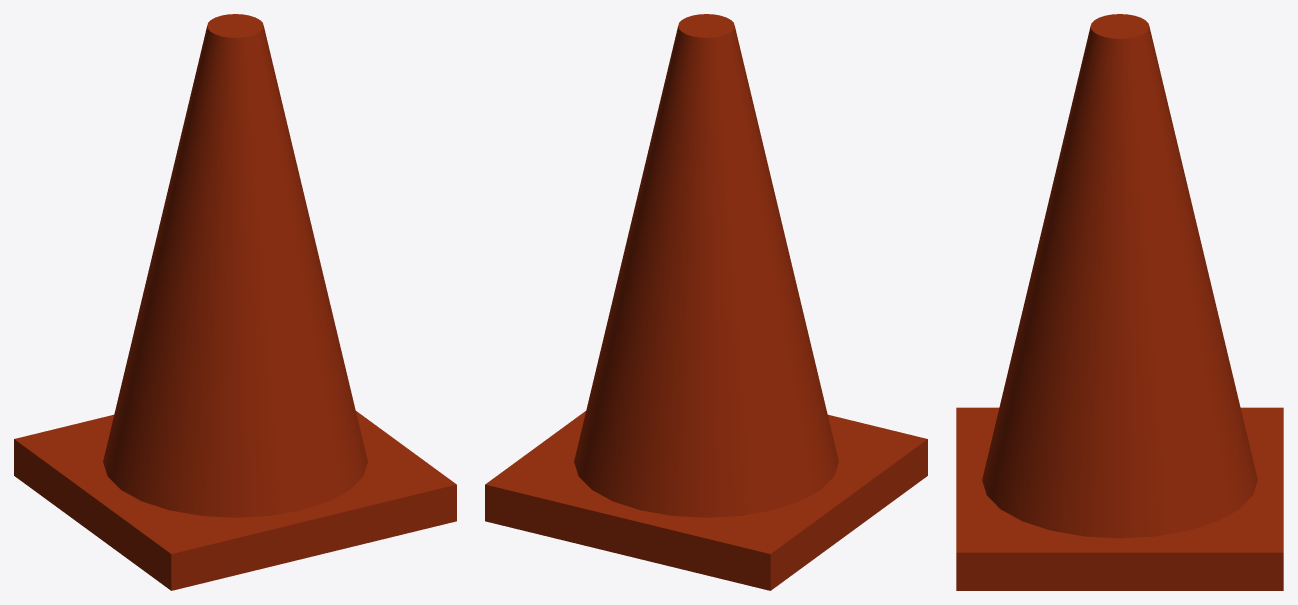
Rendered from Cone(colour).fbx.
3 renders of one model, left to right at view 1: azimuth 30°, elevation 25°; view 2: azimuth 150°, elevation 25°; view 3: azimuth 270°, elevation 25°, orthographic. The views are drawn at different scales.
Visible parts, largest first — view 1: Cone001, Box001; view 2: Cone001, Box001; view 3: Cone001, Box001.
Part boxes in pixels (x1,y1,x2,y2): Cone001: (103,14,367,517); Box001: (14,411,456,590); Cone001: (574,14,838,517); Box001: (485,411,927,590); Cone001: (982,14,1257,538); Box001: (956,407,1283,590).
Size of the model in its own units: 23.67 by 37.45 by 22.59.
